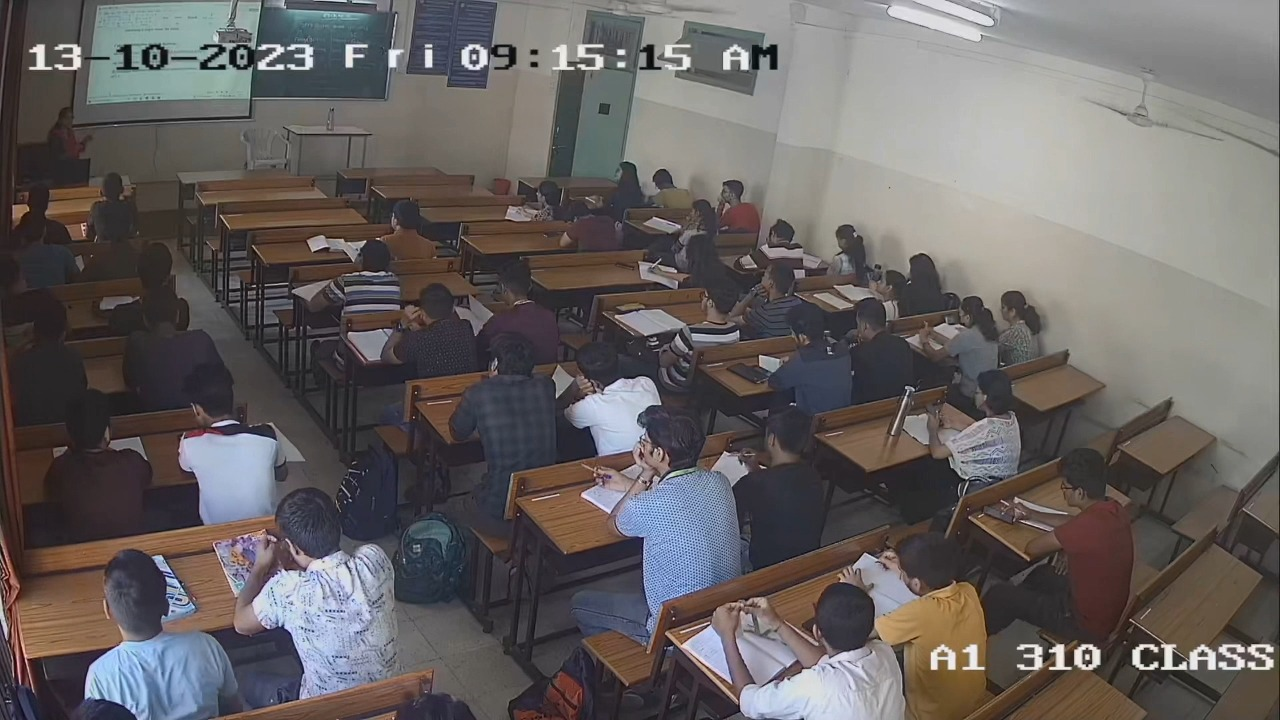cell-phones: (978, 503, 1018, 526), (922, 398, 947, 429), (613, 299, 648, 315), (752, 363, 775, 379), (613, 261, 637, 272), (542, 229, 560, 240)
person: (1025, 450, 1135, 590), (932, 368, 1023, 477), (773, 302, 854, 407), (671, 282, 741, 346), (651, 234, 729, 283), (559, 198, 619, 253)
